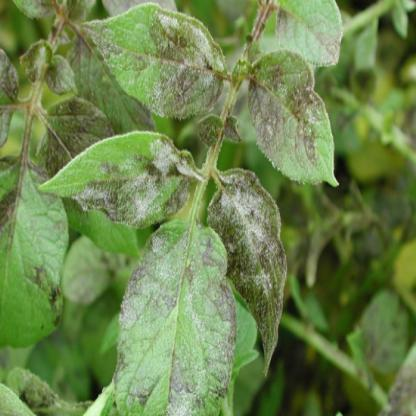Potato leaf: (43, 128, 290, 413), (72, 2, 228, 127), (244, 46, 340, 193)
